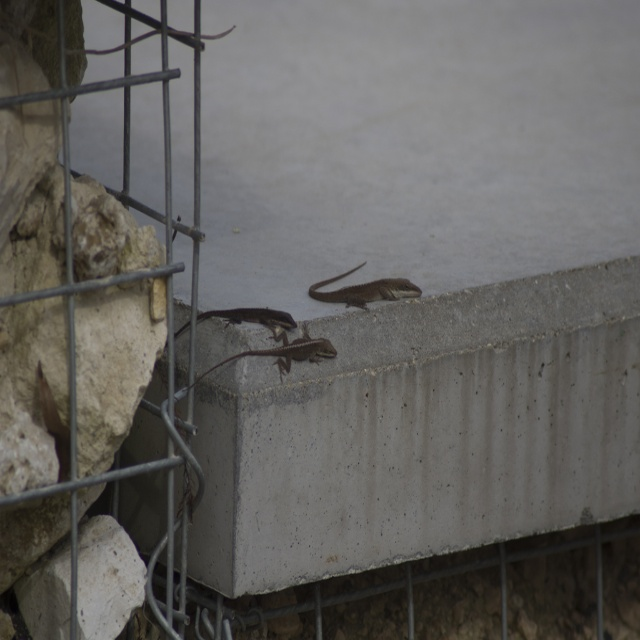Lizard: (174, 312, 334, 393), (308, 258, 420, 312), (165, 307, 300, 344)
